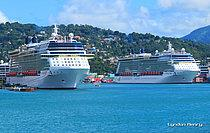Ship: (5, 19, 97, 93), (110, 41, 207, 88)
